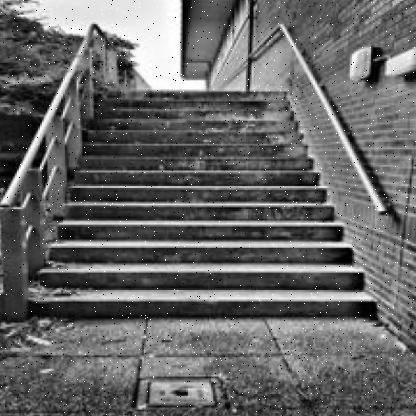stair_up: (32, 197, 325, 332)
